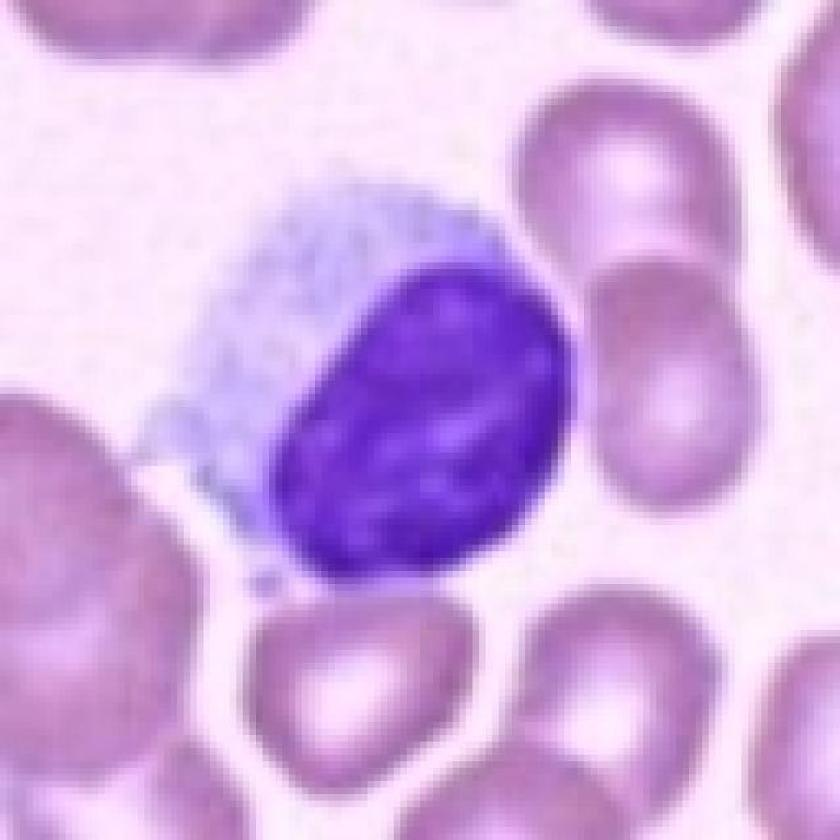lymphocyte: (130, 170, 579, 601)
